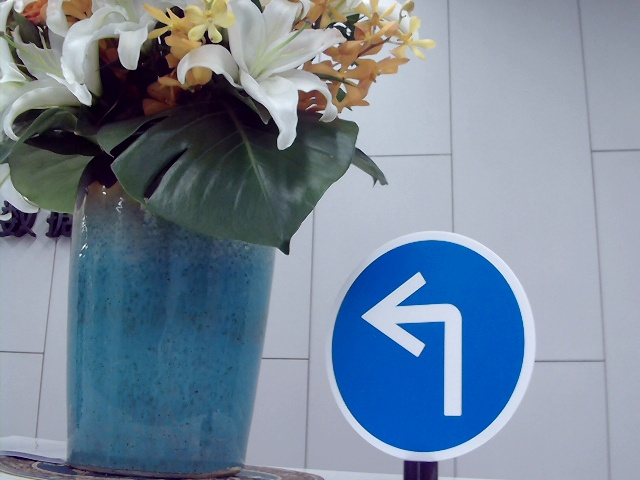turn_left: (364, 271, 479, 418)
